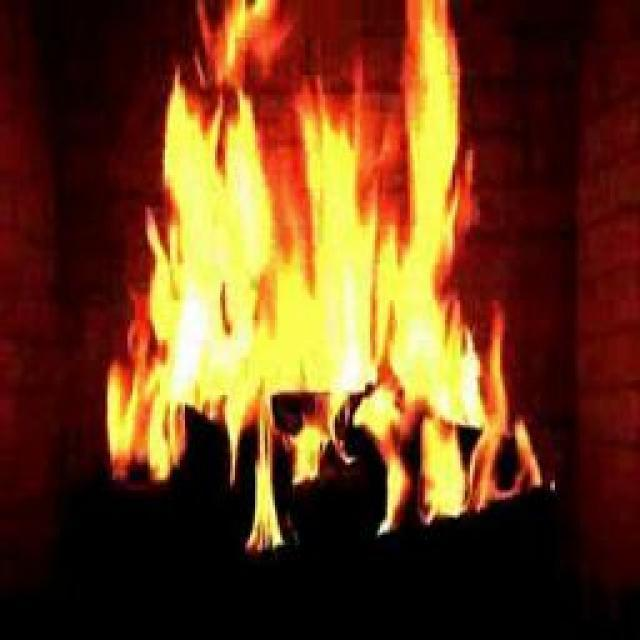Fire: (136, 61, 455, 484)
